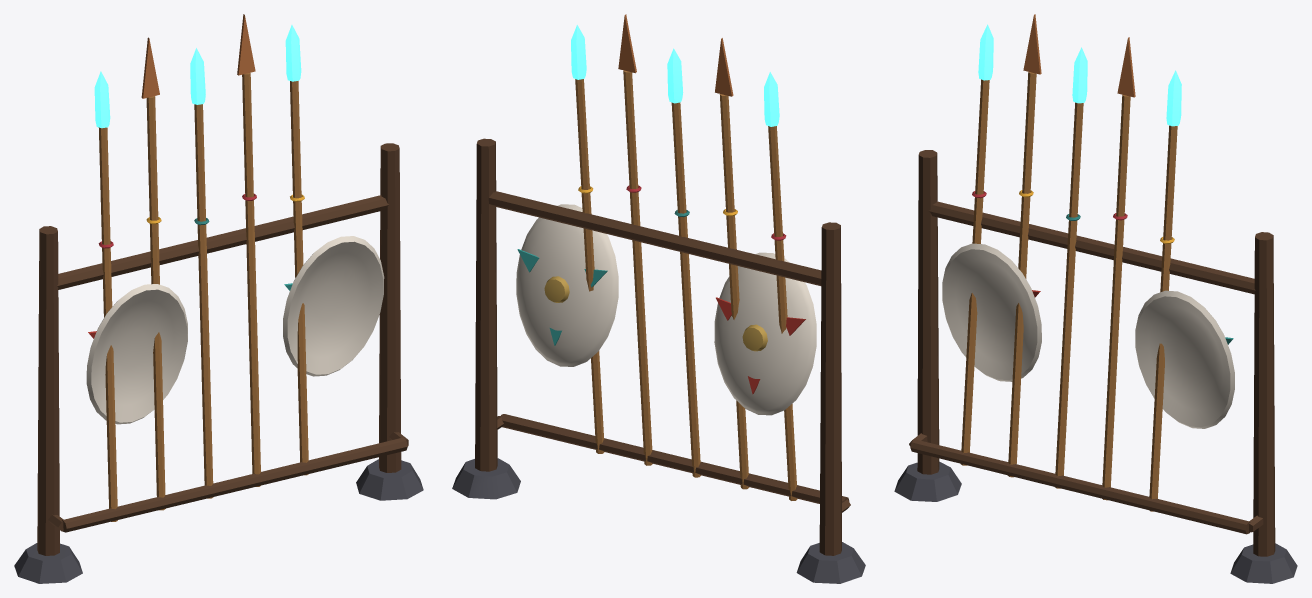
Rendered from deco_weapon_rack.fbx.
3 renders of one model, left to right at view 1: azimuth 30°, elevation 25°; view 2: azimuth 150°, elevation 25°; view 3: azimuth 330°, elevation 25°, orthographic. The views are drawn at different scales.
Visible parts, largest first — view 1: WeaponRack_Rack, WeaponRack_Spears, WeaponRack_Shield2, WeaponRack_Shield1; view 2: WeaponRack_Rack, WeaponRack_Spears, WeaponRack_Shield2, WeaponRack_Shield1; view 3: WeaponRack_Rack, WeaponRack_Spears, WeaponRack_Shield2, WeaponRack_Shield1.
Part boxes in pixels (x1=…): WeaponRack_Rack: x1=14, y1=143, x2=423, y2=583; WeaponRack_Spears: x1=94, y1=14, x2=308, y2=521; WeaponRack_Shield2: x1=283, y1=236, x2=384, y2=376; WeaponRack_Shield1: x1=86, y1=284, x2=187, y2=424; WeaponRack_Rack: x1=452, y1=138, x2=865, y2=583; WeaponRack_Spears: x1=571, y1=14, x2=797, y2=500; WeaponRack_Shield2: x1=516, y1=204, x2=618, y2=366; WeaponRack_Shield1: x1=714, y1=252, x2=816, y2=415; WeaponRack_Rack: x1=894, y1=150, x2=1297, y2=583; WeaponRack_Spears: x1=961, y1=14, x2=1181, y2=511; WeaponRack_Shield2: x1=1135, y1=290, x2=1234, y2=428; WeaponRack_Shield1: x1=942, y1=243, x2=1041, y2=381.
Size of the model in its own units: 236 by 282 by 39.17.
